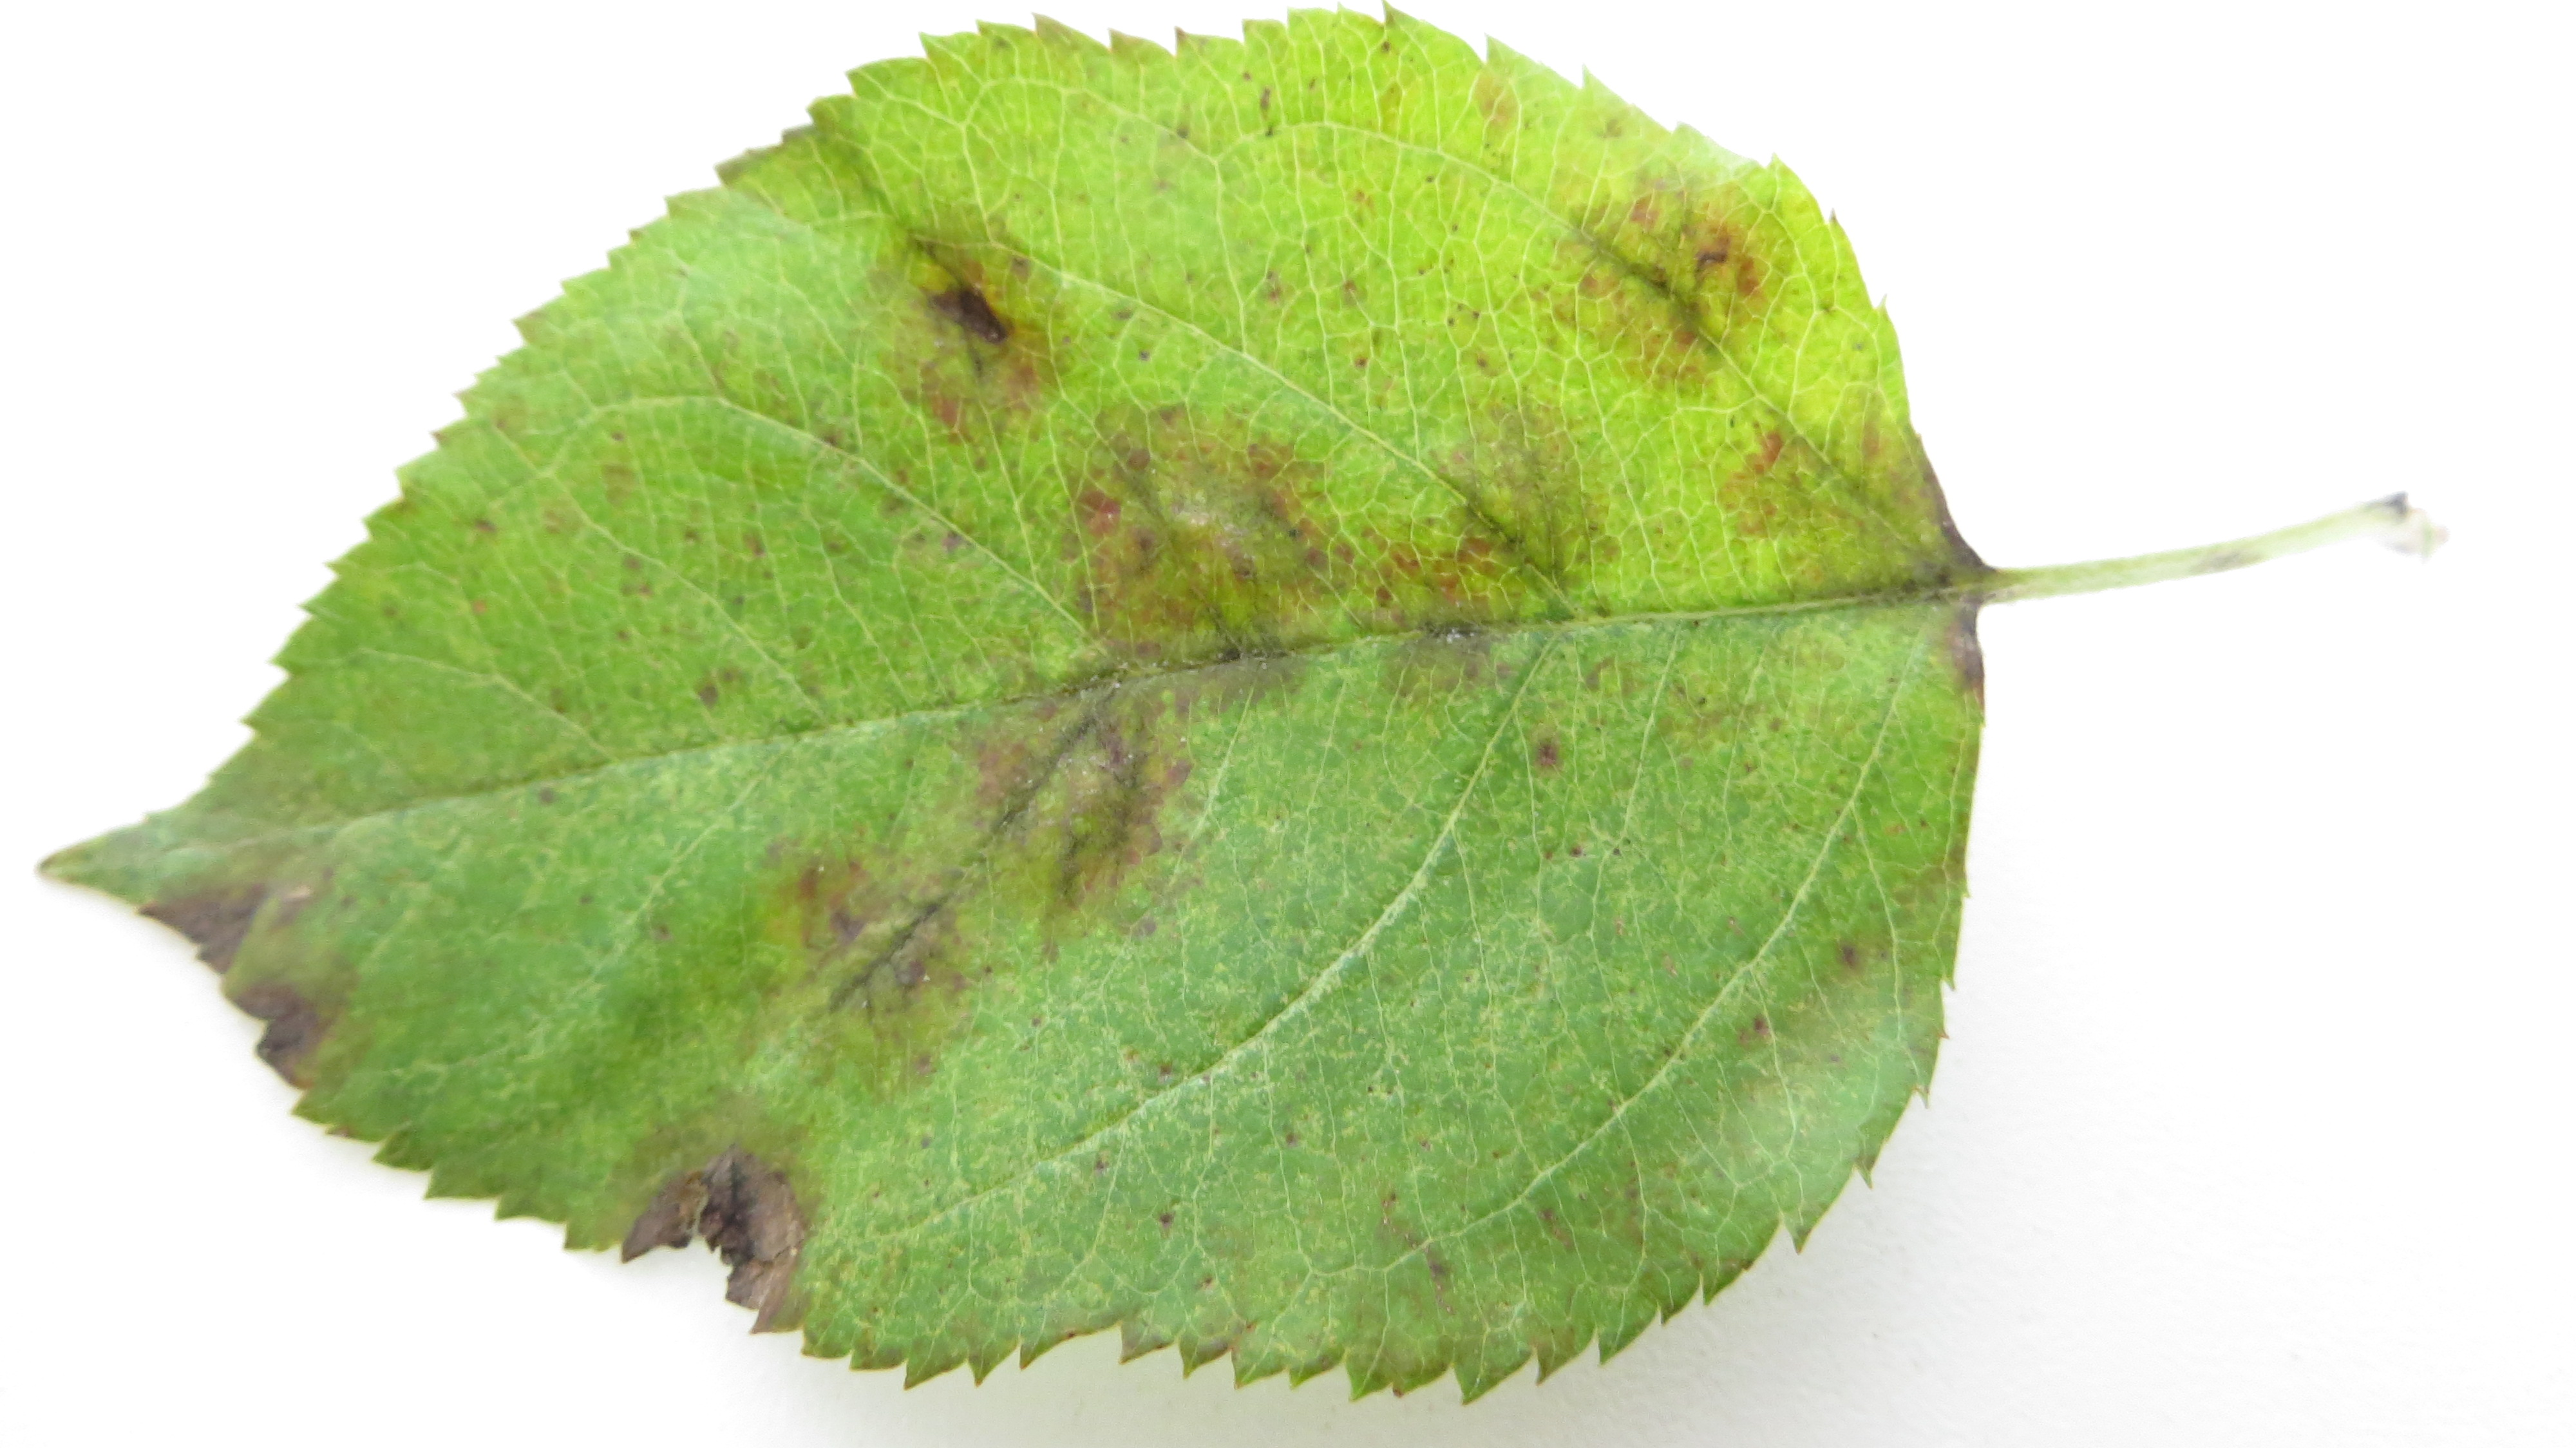sarna: (1070, 398, 1346, 703), (943, 660, 1214, 945), (1723, 398, 1985, 639), (761, 834, 987, 1083), (870, 202, 1085, 446), (598, 1082, 821, 1310), (1562, 172, 1762, 409), (1431, 386, 1617, 597), (1336, 503, 1513, 717), (159, 836, 356, 990), (223, 952, 384, 1099)
